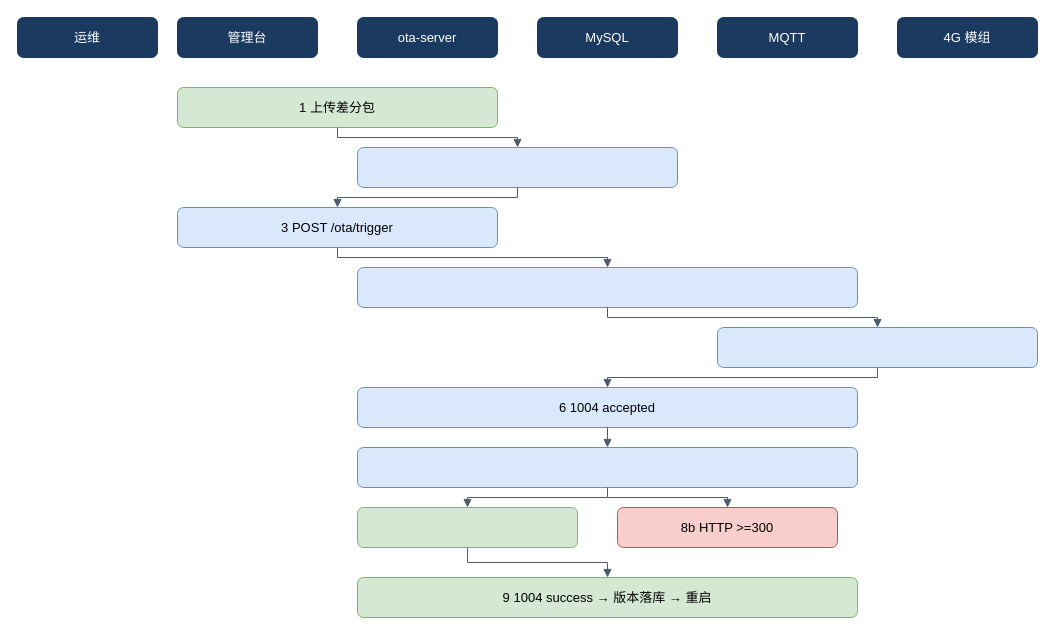
This 1055x635 diagram has some shape labels left out. Each missing label, with the centre of its shape:
"2 写入固件库与文件" goes at (517,167).
"4 MQTT 2004 url+version" goes at (607,287).
"5 模组收到 2004" goes at (877,347).
"7 GET /api/site/firmware_upgrade" goes at (607,467).
"8a 200 + bin" goes at (467,527).
